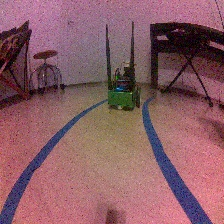rob: (106, 65, 141, 112)
